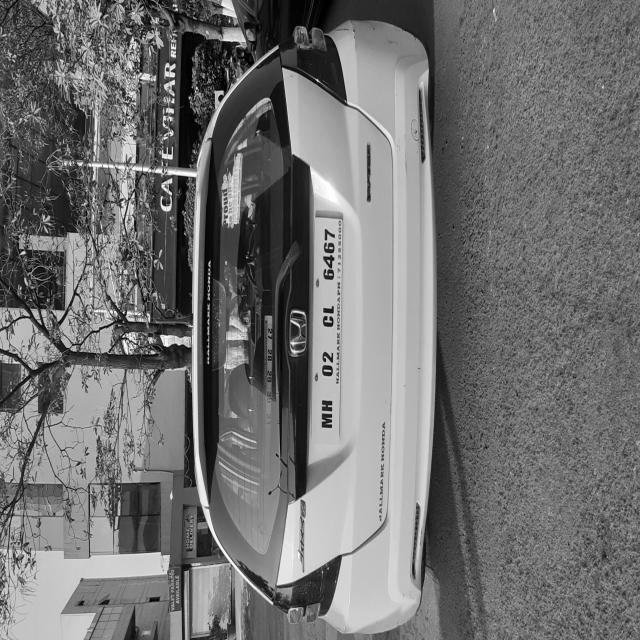car: (6, 387, 311, 640)
license-plate: (90, 637, 210, 640)
